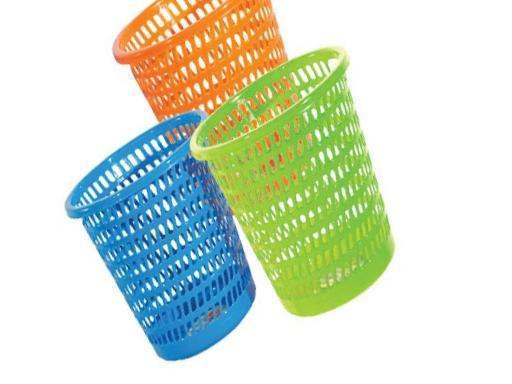Bote de Basura: (70, 114, 260, 361), (219, 63, 394, 323), (105, 0, 310, 204)
